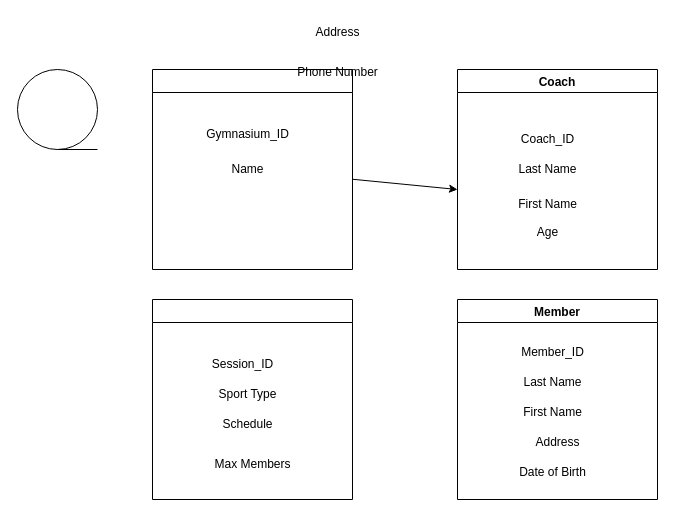
The diagram is 675 pixels wide and 517 high, and some of its shapes have lost their labels. Here are the shapes that lost their labels. From the top down, the box of each, then its label:
(152, 68, 352, 270): Container
(152, 298, 352, 500): Attributes
